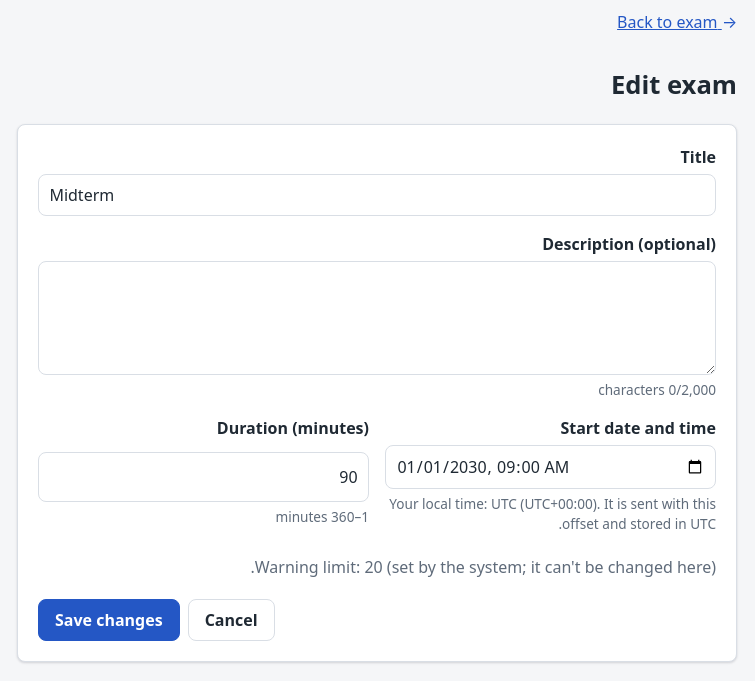
it: EditExamPage when a save is refused › 409 because the exam has started: shows the server message, reloads, and replaces the form
This screenshot has width=755, height=681.
Replace the text in the field labelled "Title" with "Changed title". click: point(377, 195)
box: [38,174,716,216]
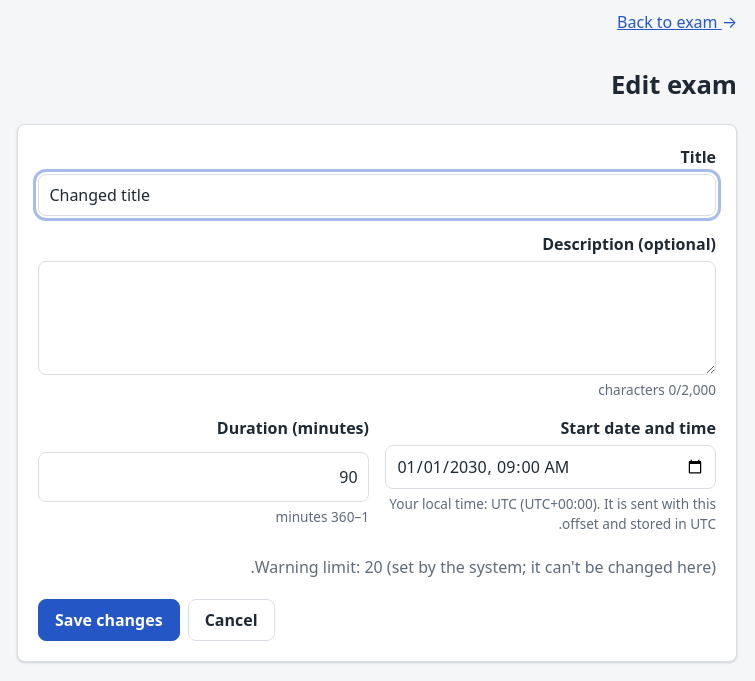
Click the button "Save changes". click: point(109, 620)
box: [38,598,180,640]
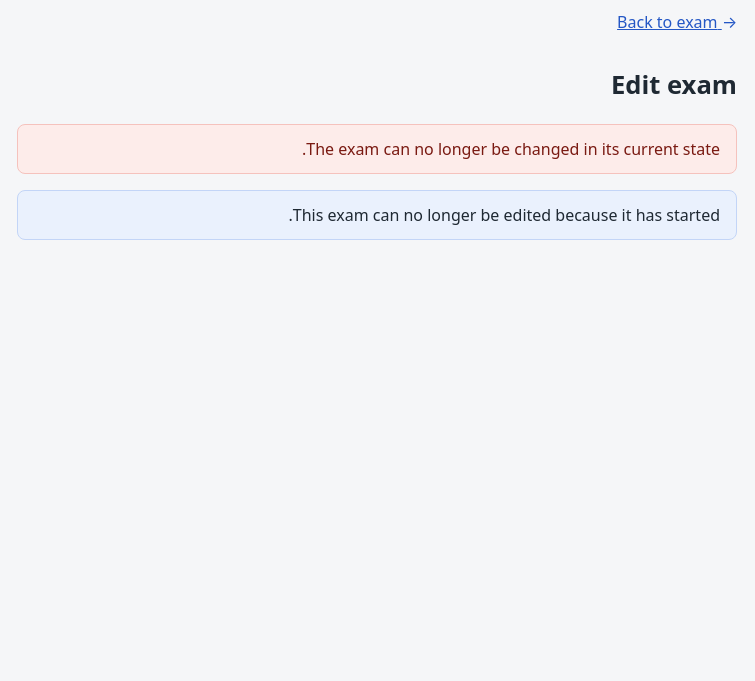
Check: the text "The exam can no longer be changed in its current state." is shown, box [302,138,720,160]
Check: the button "Save changes" is gone
Check: the text "This exam can no longer be edited because it has started." is shown, box [288,204,720,226]
